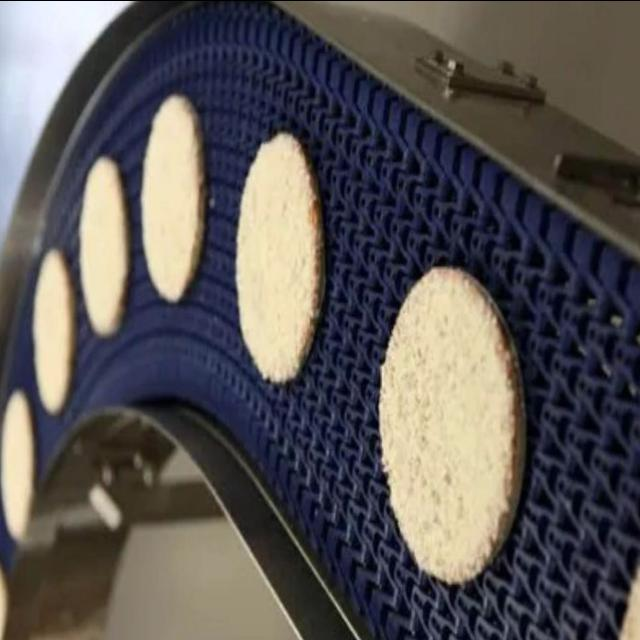food: (376, 263, 528, 587), (225, 118, 333, 386)
